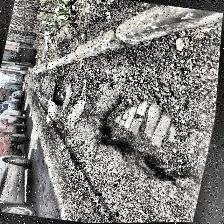pothole: (88, 91, 218, 187), (50, 83, 70, 107)
